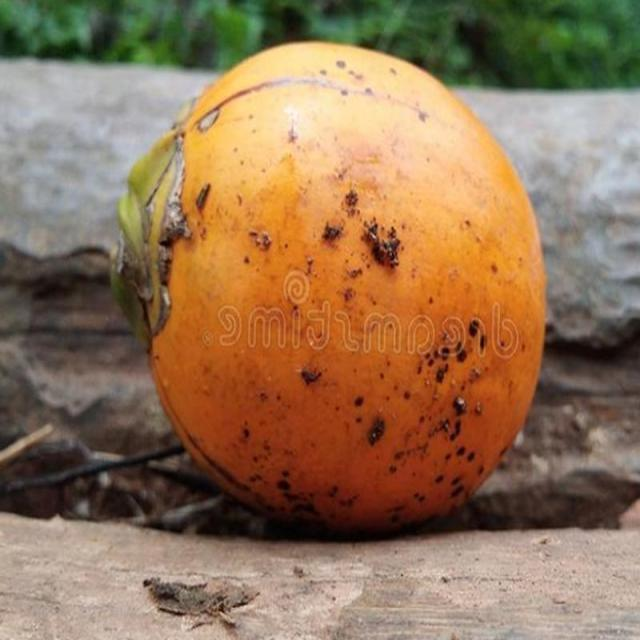good: (111, 42, 548, 543)
